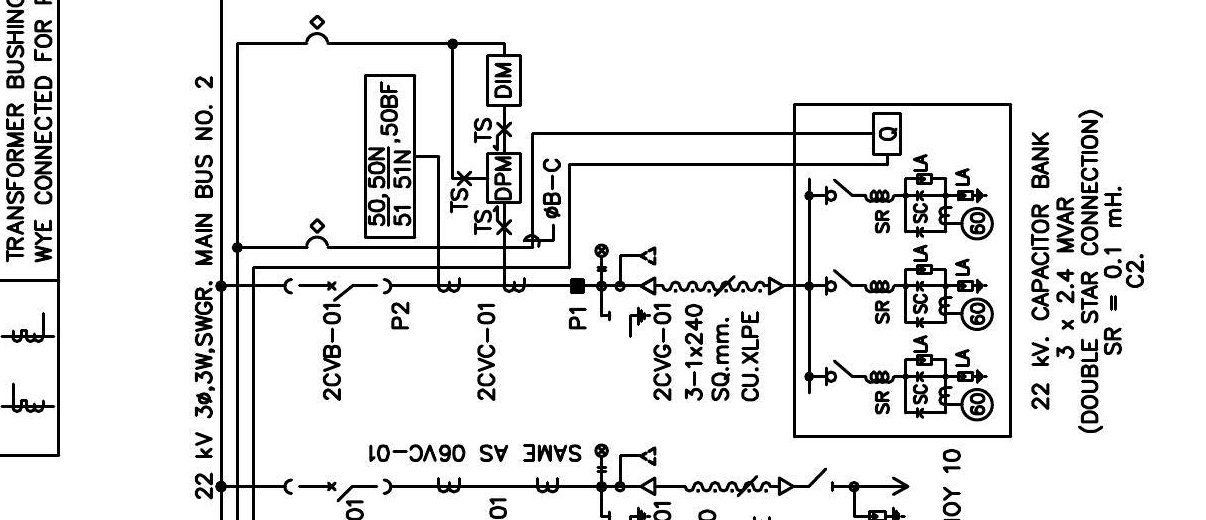22_breaker: (283, 477, 394, 503), (283, 277, 394, 303)
22_cap_bank: (792, 102, 1013, 439)
22_gs: (607, 305, 652, 339)
22_ll: (593, 443, 610, 474), (593, 243, 609, 273)
DIM: (484, 53, 523, 107)
DPM: (484, 151, 523, 205)
Q: (871, 111, 903, 157)
terminator_single: (767, 276, 785, 297), (777, 476, 795, 496)
terminator_w_future: (618, 445, 657, 497), (618, 245, 657, 297)
